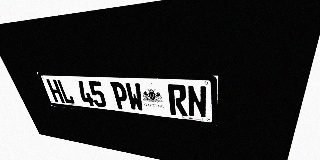4: (75, 80, 95, 106)
5: (88, 81, 107, 108)
H: (46, 79, 65, 103)
L: (56, 79, 75, 104)
N: (187, 85, 207, 118)
P: (110, 82, 130, 110)
R: (167, 84, 188, 116)
W: (124, 82, 145, 112)
